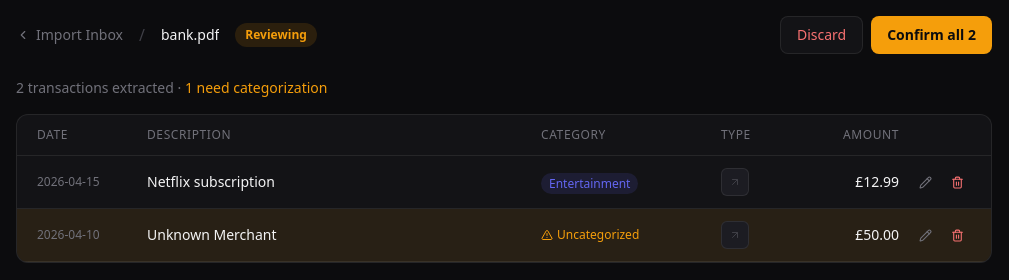
Test: BatchReviewClient › handleConfirm › disables both action buttons while loading
Step 1. Click the button "Confirm all 2" → (932, 35), box [871, 16, 992, 54]
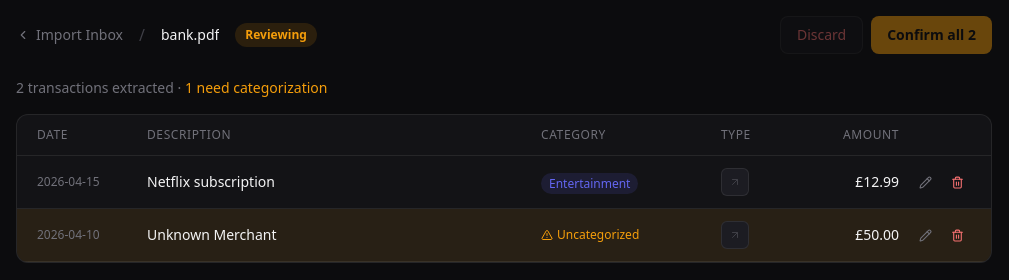
Check: the button "Confirm all 2" is disabled, box [871, 16, 992, 54]
Check: the button "Discard" is disabled, box [780, 16, 863, 54]
